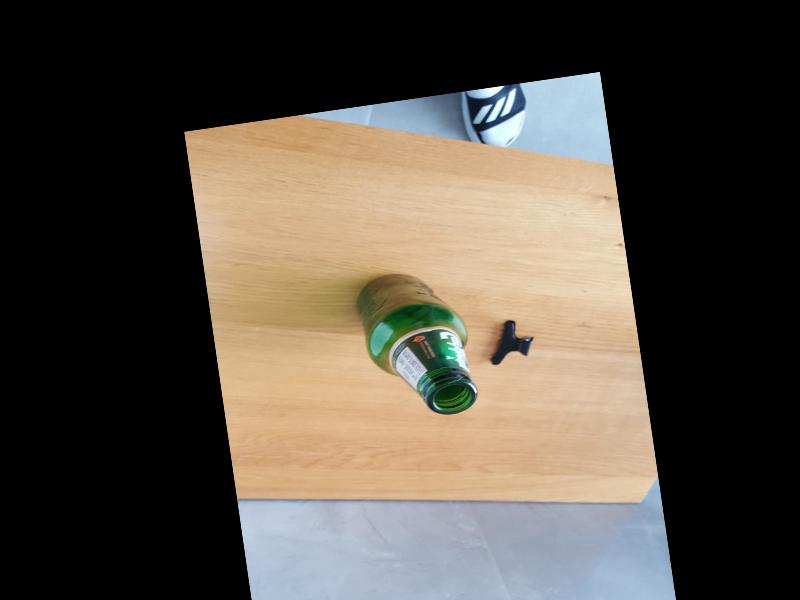Beer: (351, 262, 480, 425)
